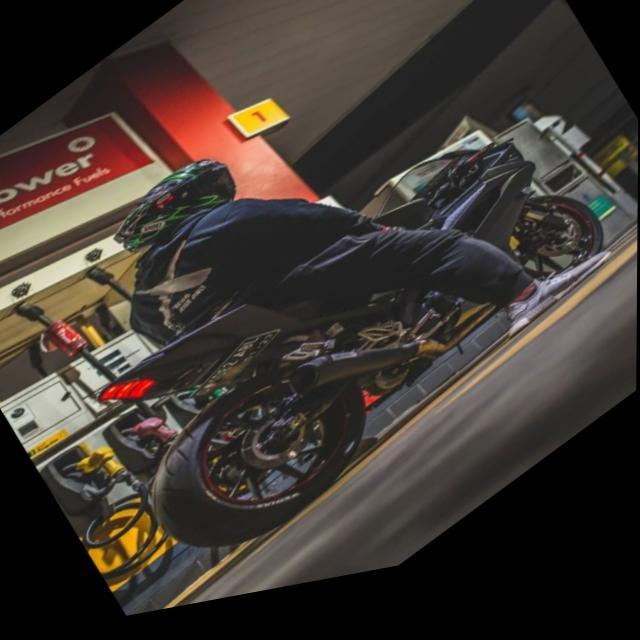Helmet: (100, 147, 241, 257)
